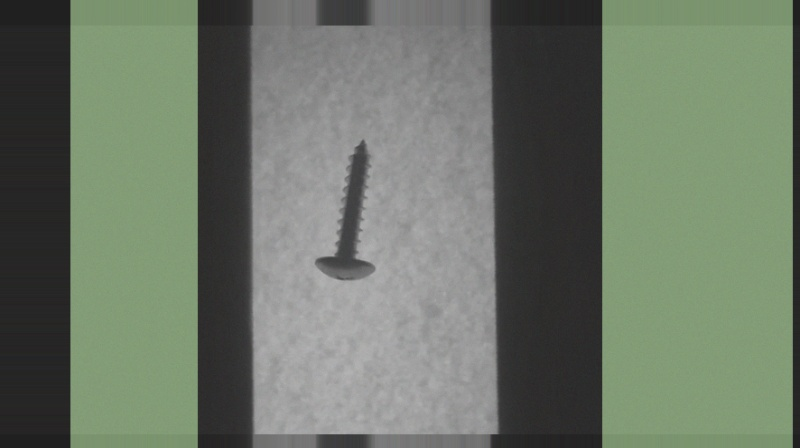S003: (313, 137, 376, 284)
